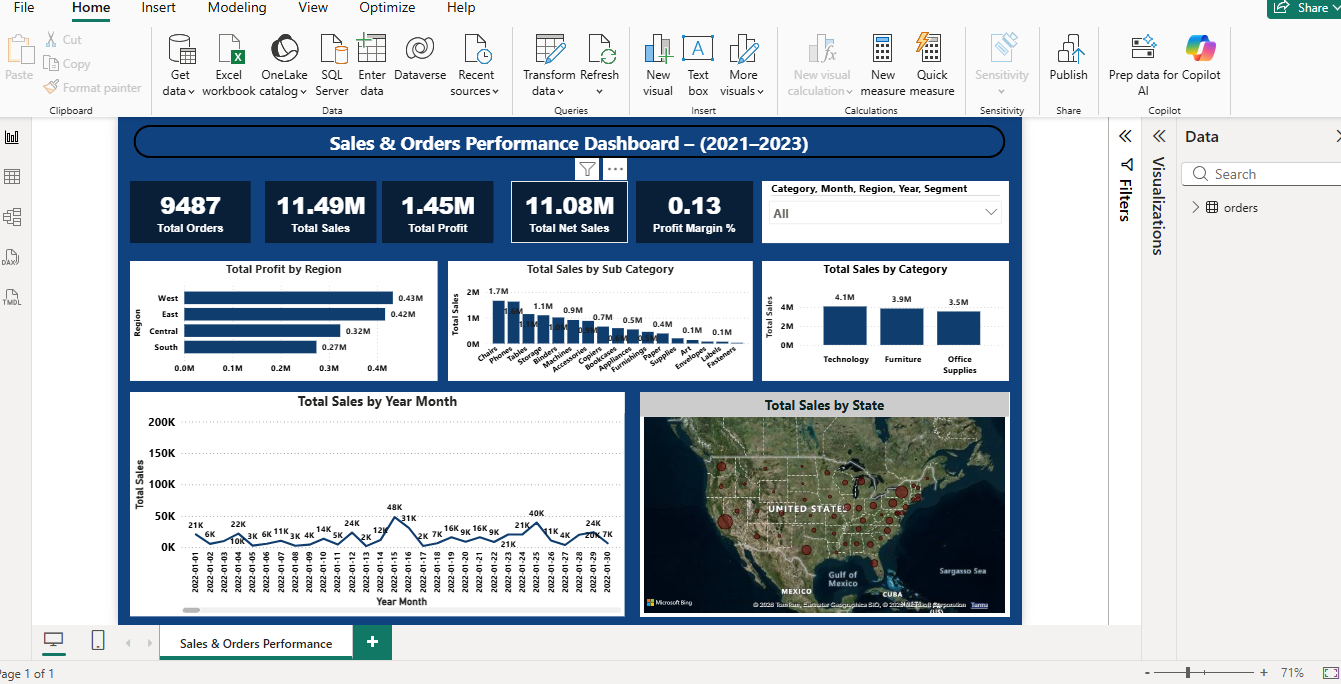

The dashboard page shown, as its layout file describes it:
{"tool":"powerbi","page":{"name":"Sales & Orders Performance","canvas":[1280,720],"ordinal":0},"visuals":[{"type":"card","fields":{"Values":["orders.Total Net Sales"]},"box":[557.3,90.7,165.6,87.8],"z":0},{"type":"card","fields":{"Values":["orders.Total Orders"]},"box":[17.3,90.7,171.4,87.8],"z":1000},{"type":"card","fields":{"Values":["orders.Profit Margin %"]},"box":[734.4,90.7,165.6,87.8],"z":2000},{"type":"card","fields":{"Values":["orders.Total Sales"]},"box":[208.8,90.7,158.4,87.8],"z":3000},{"type":"card","fields":{"Values":["orders.Total Profit"]},"box":[374.4,90.7,158.4,87.8],"z":4000},{"type":"lineChart","fields":{"Y":["orders.Total Sales"],"Category":["orders.Year Month"]},"box":[17.3,390.2,701.3,318.2],"z":5000},{"type":"clusteredColumnChart","fields":{"Category":["orders.Category"],"Y":["orders.Total Sales"]},"box":[913,204.5,349.9,169.9],"z":6000},{"type":"barChart","fields":{"Category":["orders.Region"],"Y":["orders.Total Profit"]},"box":[17.3,204.5,436.3,169.9],"z":7000},{"type":"columnChart","fields":{"Category":["orders.Sub Category"],"Y":["orders.Total Sales"]},"box":[468,204.5,432,169.9],"z":8000},{"type":"slicer","fields":{"Values":["orders.Category","orders.Month","orders.Region","orders.Year","orders.Segment"]},"box":[913,90.7,349.9,87.8],"z":9000},{"type":"map","fields":{"Size":["orders.Total Sales"],"Category":["orders.State"]},"box":[740.2,390.2,522.7,318.2],"z":10000},{"type":"shape","title":"Sales & Orders Performance","box":[17.3,11.5,1245.6,51.8],"z":11000}]}

Visuals, with their boxes on the page's 1280x720 design canvas (x1, y1, x2, y2). These are canvas units, not pixel positions in the 1341x684 screenshot, which may show the page scaled, cropped or inside an application window:
card - orders.Total Net Sales: x1=557 y1=91 x2=723 y2=178
card - orders.Total Orders: x1=17 y1=91 x2=189 y2=178
card - orders.Profit Margin %: x1=734 y1=91 x2=900 y2=178
card - orders.Total Sales: x1=209 y1=91 x2=367 y2=178
card - orders.Total Profit: x1=374 y1=91 x2=533 y2=178
lineChart - orders.Total Sales x orders.Year Month: x1=17 y1=390 x2=719 y2=708
clusteredColumnChart - orders.Category x orders.Total Sales: x1=913 y1=204 x2=1263 y2=374
barChart - orders.Region x orders.Total Profit: x1=17 y1=204 x2=454 y2=374
columnChart - orders.Sub Category x orders.Total Sales: x1=468 y1=204 x2=900 y2=374
slicer - orders.Category x orders.Month: x1=913 y1=91 x2=1263 y2=178
map - orders.Total Sales x orders.State: x1=740 y1=390 x2=1263 y2=708
"Sales & Orders Performance" shape: x1=17 y1=12 x2=1263 y2=63
